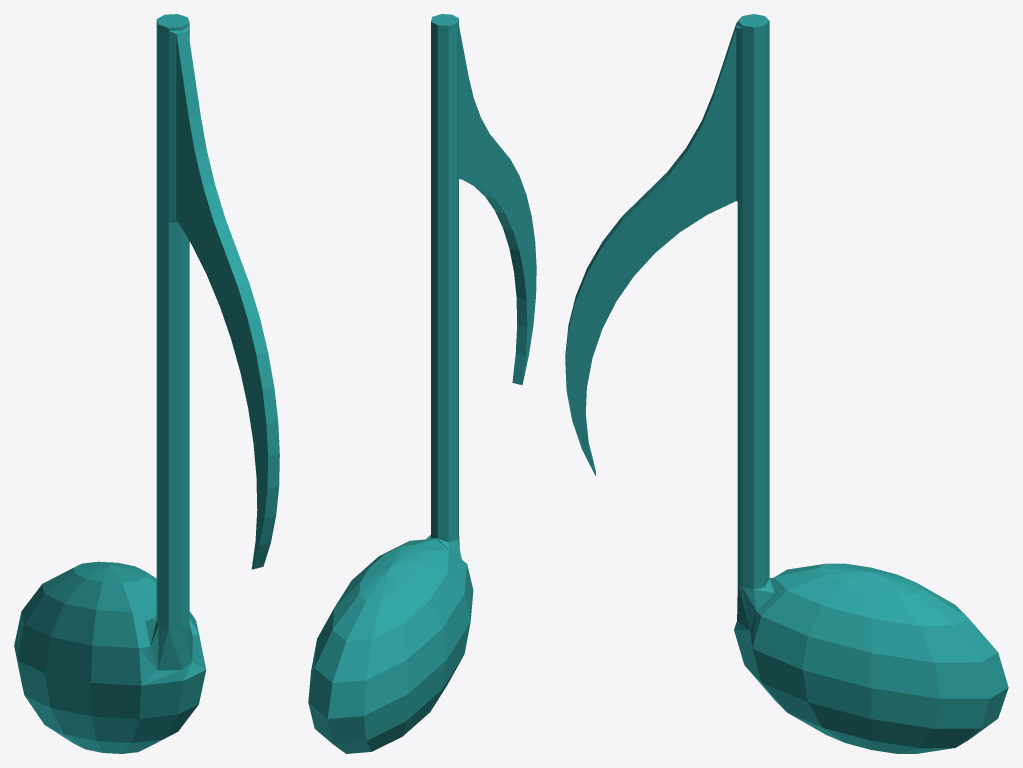
Rendered from music2.obj.
3 renders of one model, left to right at view 1: azimuth 30°, elevation 25°; view 2: azimuth 150°, elevation 25°; view 3: azimuth 270°, elevation 25°, orthographic. The views are drawn at different scales.
Parts seen in each view (by area): view 1: Mesh_Mesh_MusicNote; view 2: Mesh_Mesh_MusicNote; view 3: Mesh_Mesh_MusicNote.
Boxes of the visible parts, <box> form: Mesh_Mesh_MusicNote: <box>14,14,279,753</box>; Mesh_Mesh_MusicNote: <box>308,14,536,753</box>; Mesh_Mesh_MusicNote: <box>565,14,1008,753</box>.
Bounding box in the file's own units: 2.2 × 12.65 × 6.97.
